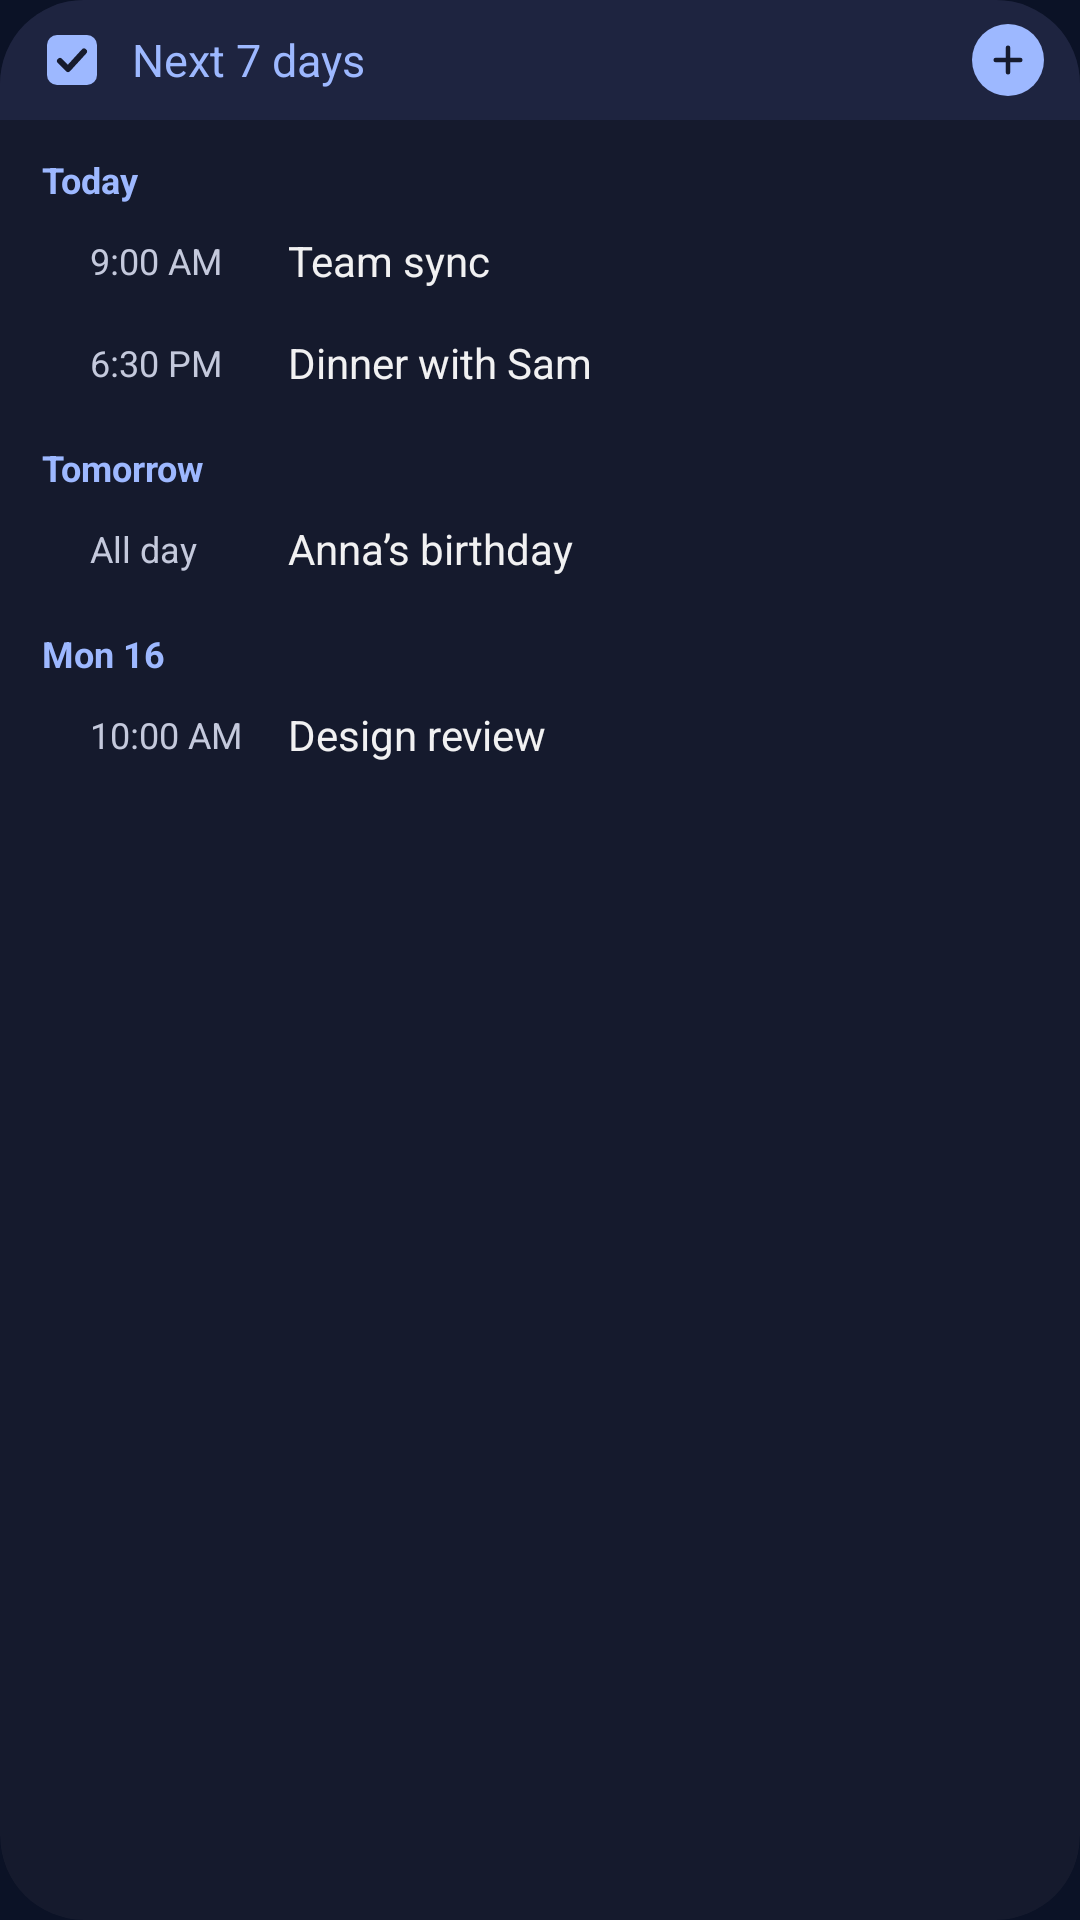

Icon bounding boxes for this 1080px×1920px phone screenshot, format [x1, y1, x2, y2]:
widget add: [972, 24, 1044, 96]
